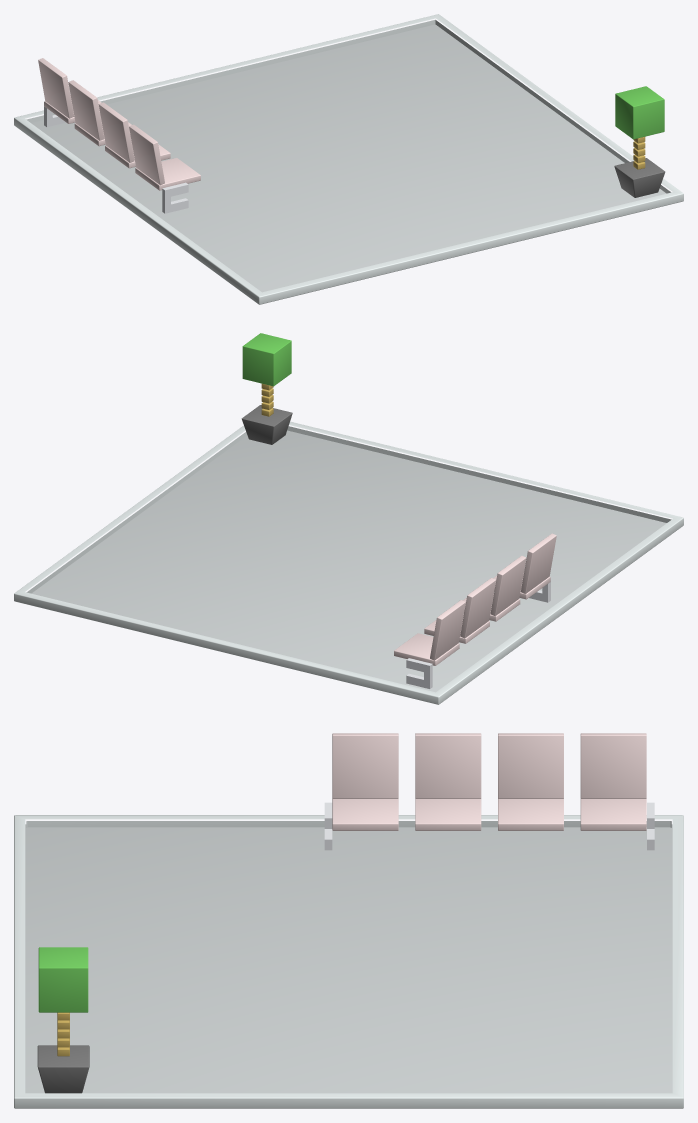
The model's file is ground.gltf.
3 views of the same model, one above another, from view 1: azimuth 30°, elevation 25°; view 2: azimuth 150°, elevation 25°; view 3: azimuth 270°, elevation 25° (orthographic). The views are drawn at different scales.
Parts seen in each view (by area): view 1: main_floor, floor_line, chairs, tree, pot, chair_handle02; view 2: main_floor, floor_line, chairs, tree, pot, chair_handle01; view 3: main_floor, chairs, floor_line, tree, pot, stem.
Boxes of the visible parts, x1=… form: main_floor: x1=31, y1=24, x2=666, y2=292; floor_line: x1=14, y1=14, x2=683, y2=304; chairs: x1=38, y1=58, x2=200, y2=190; tree: x1=615, y1=86, x2=664, y2=139; pot: x1=614, y1=158, x2=665, y2=197; chair_handle02: x1=162, y1=182, x2=188, y2=213; main_floor: x1=31, y1=430, x2=666, y2=692; floor_line: x1=14, y1=421, x2=683, y2=704; chairs: x1=394, y1=533, x2=556, y2=665; tree: x1=242, y1=333, x2=291, y2=386; pot: x1=241, y1=405, x2=292, y2=444; chair_handle01: x1=406, y1=658, x2=432, y2=688; main_floor: x1=25, y1=824, x2=672, y2=1093; chairs: x1=332, y1=733, x2=646, y2=830; floor_line: x1=14, y1=815, x2=683, y2=1108; tree: x1=38, y1=947, x2=88, y2=1012; pot: x1=37, y1=1045, x2=89, y2=1093; stem: x1=57, y1=1012, x2=69, y2=1056.
Size of the model in its own units: 8.1 by 1.79 by 8.1.
